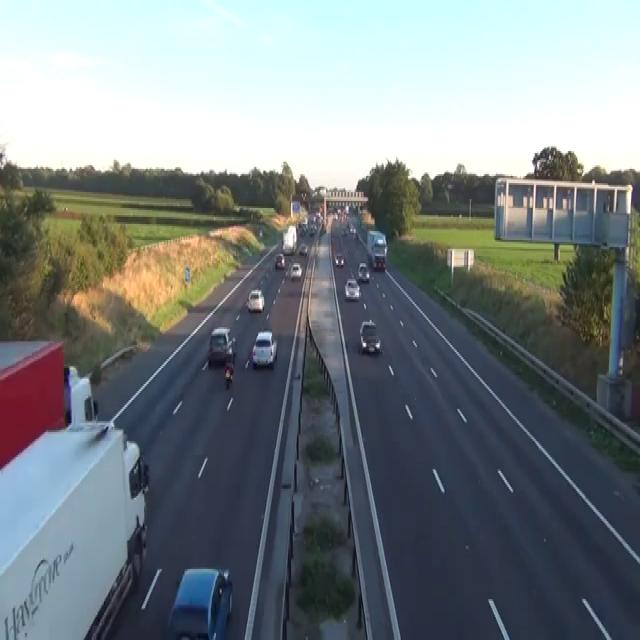Car: (167, 566, 233, 638), (63, 364, 98, 426), (207, 326, 236, 366), (251, 329, 277, 368), (63, 364, 79, 425), (359, 318, 381, 354), (247, 288, 264, 311), (344, 278, 360, 300), (359, 318, 376, 336), (357, 261, 370, 283), (290, 263, 302, 279), (224, 361, 234, 380), (274, 252, 285, 268), (373, 256, 385, 270), (334, 252, 344, 266), (282, 242, 293, 254), (299, 244, 308, 256), (349, 222, 356, 235), (309, 224, 316, 235), (300, 217, 307, 227), (341, 226, 347, 236), (321, 224, 327, 233), (333, 212, 338, 218), (259, 228, 262, 236)
Truck: (0, 338, 149, 638), (366, 230, 387, 270), (282, 224, 297, 254)
